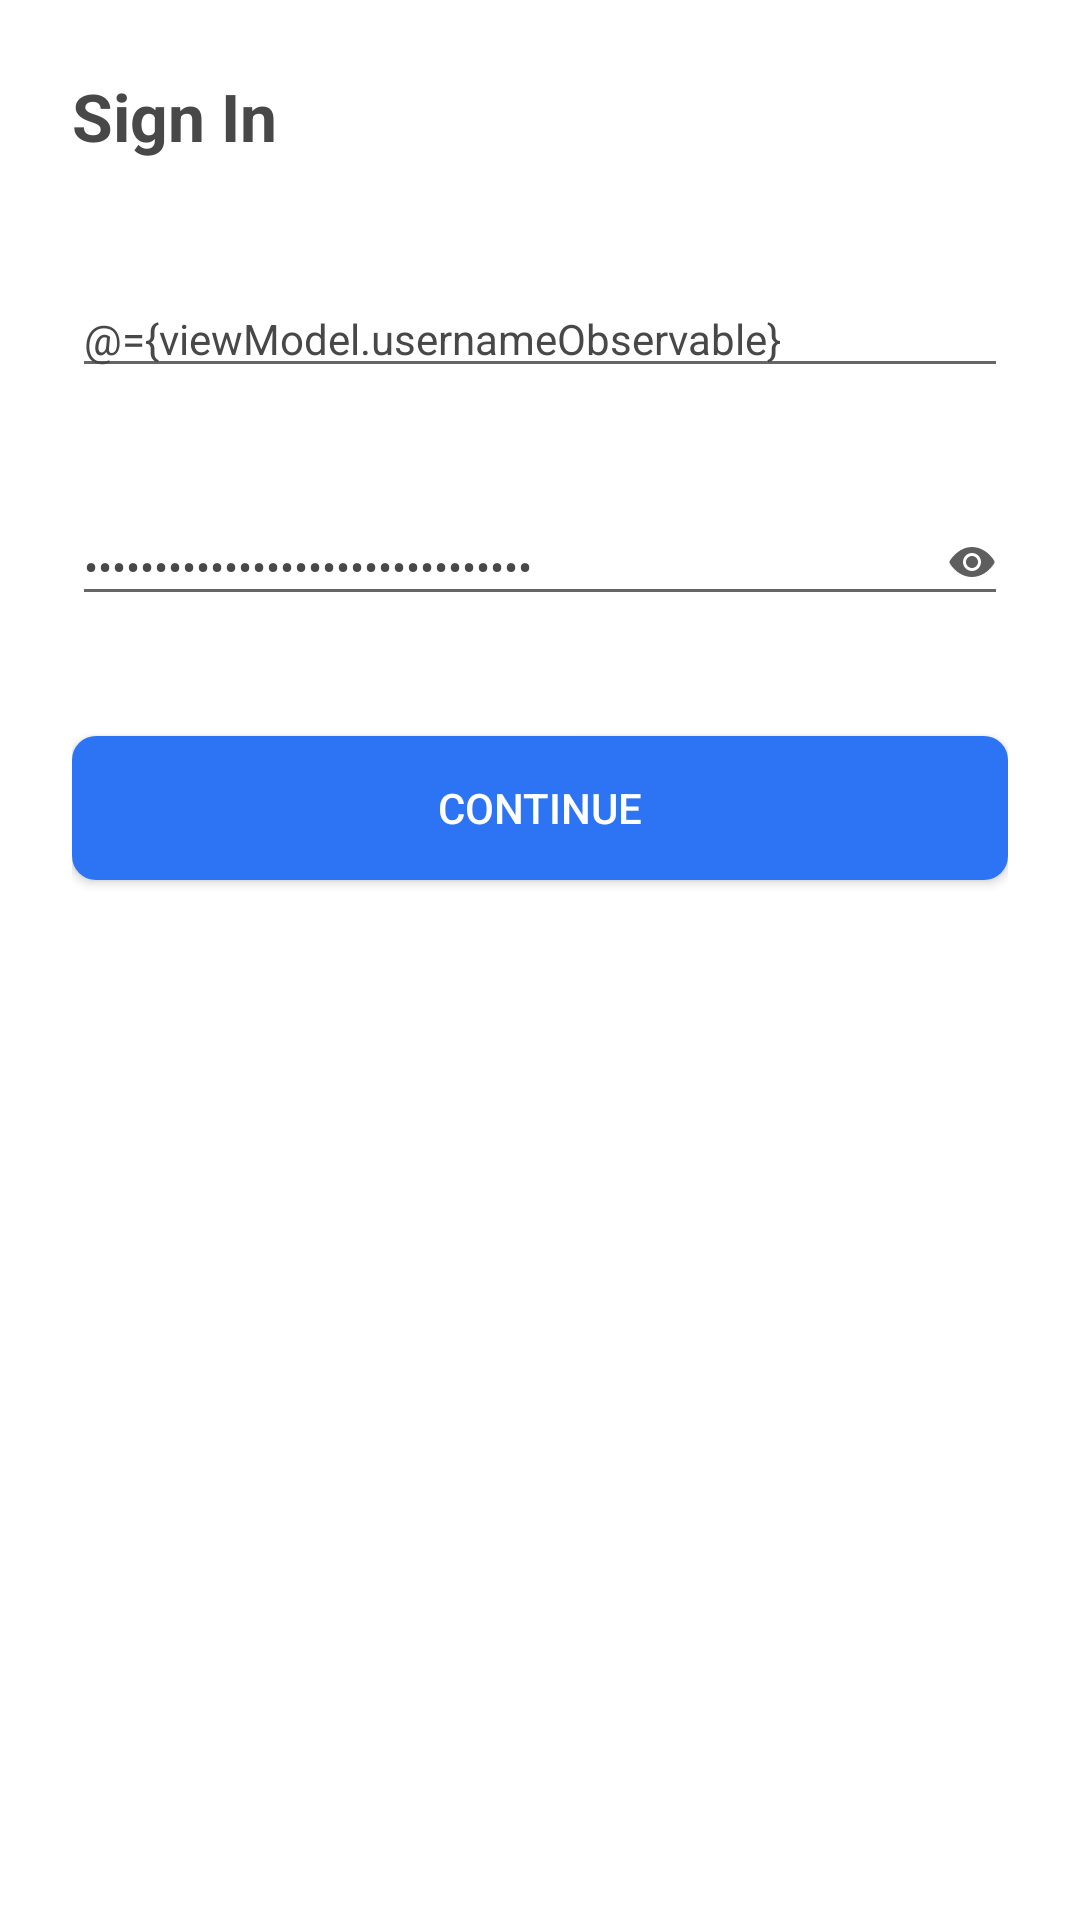

Icons on this 1080*1920 Android screen, each with its box as (x1, y1, x2, y2):
eye: (949, 547, 995, 577)
